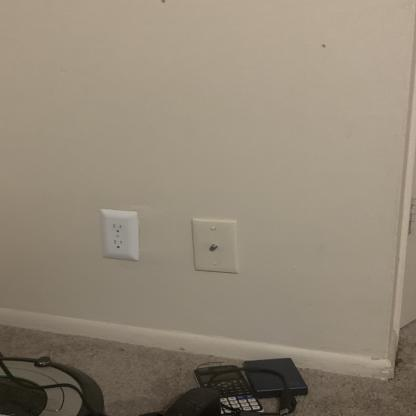OUTLET: (101, 208, 139, 261)
